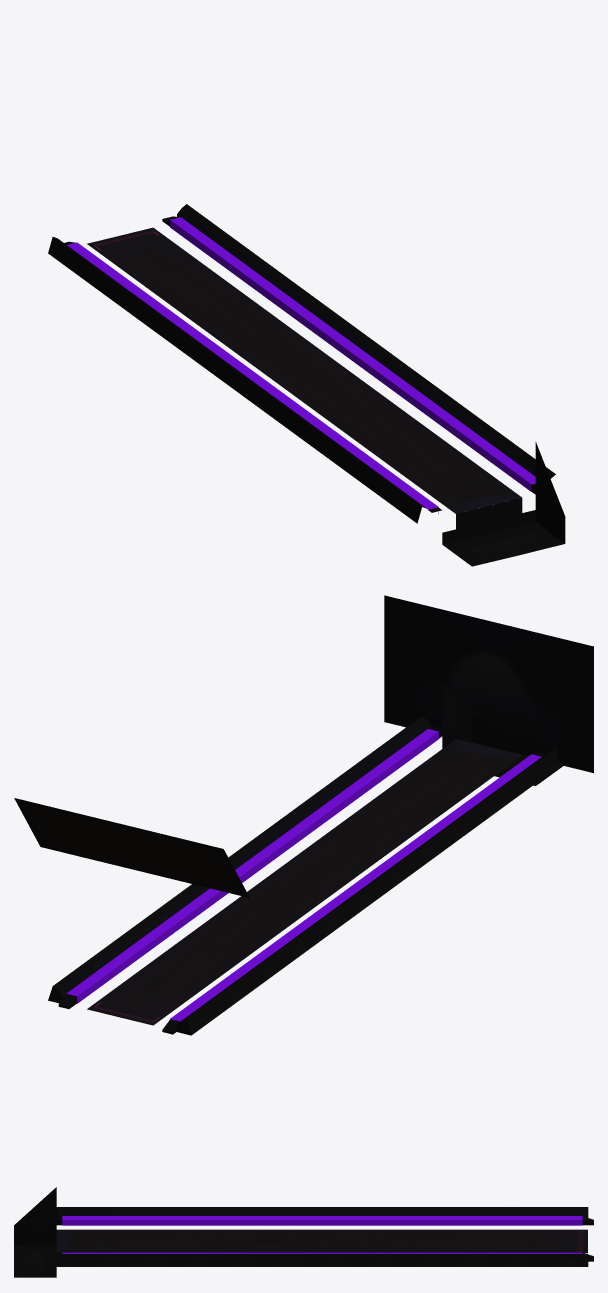
The model's file is Runway.gltf.
3 views of the same model, one above another, from view 1: azimuth 30°, elevation 25°; view 2: azimuth 150°, elevation 25°; view 3: azimuth 270°, elevation 25° (orthographic). The views are drawn at different scales.
Visible parts, largest first — view 1: GutterWalls, Runway, GutterWalls.009; view 2: GutterWalls.009, GutterWalls, Runway; view 3: GutterWalls, Runway, GutterWalls.009.
Boxes of the visible parts, x1,y1,x2,y2 form: GutterWalls: (48,204,555,523); Runway: (87,227,521,513); GutterWalls.009: (442,442,565,566); GutterWalls.009: (14,595,593,897); GutterWalls: (48,716,560,1035); Runway: (87,739,521,1025); GutterWalls: (56,1207,593,1266); Runway: (56,1229,587,1253); GutterWalls.009: (14,1187,56,1277).
Size of the model in its own units: 7.87 by 7.99 by 26.17.
Materials: 4 (4 with a texture image).
